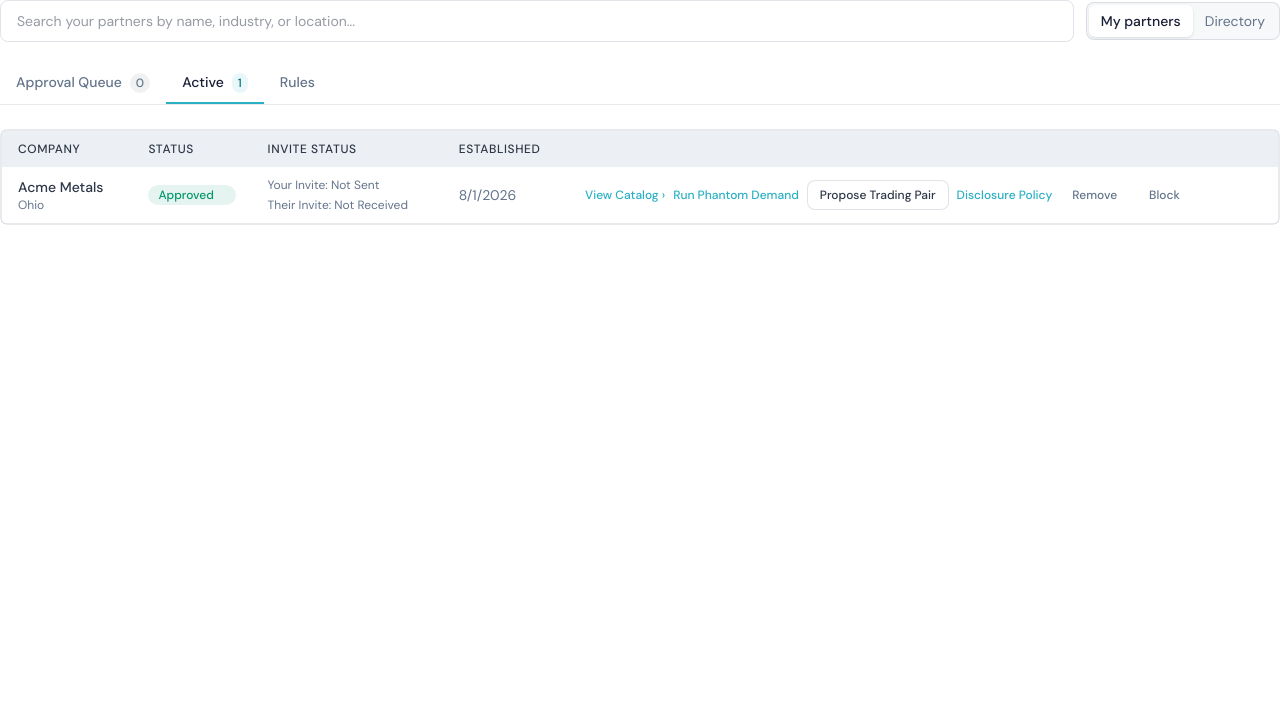
Test: PartnersPanel — propose trading pair (SEC-web-account-1-05) › a 403 leaves the invite untouched, shows no success toast, and shows the error
Expected: the text "Acme Metals" is shown, [18, 177, 116, 197]
Click the button "Propose Trading Pair".
click(878, 195)  # box [807, 180, 949, 210]
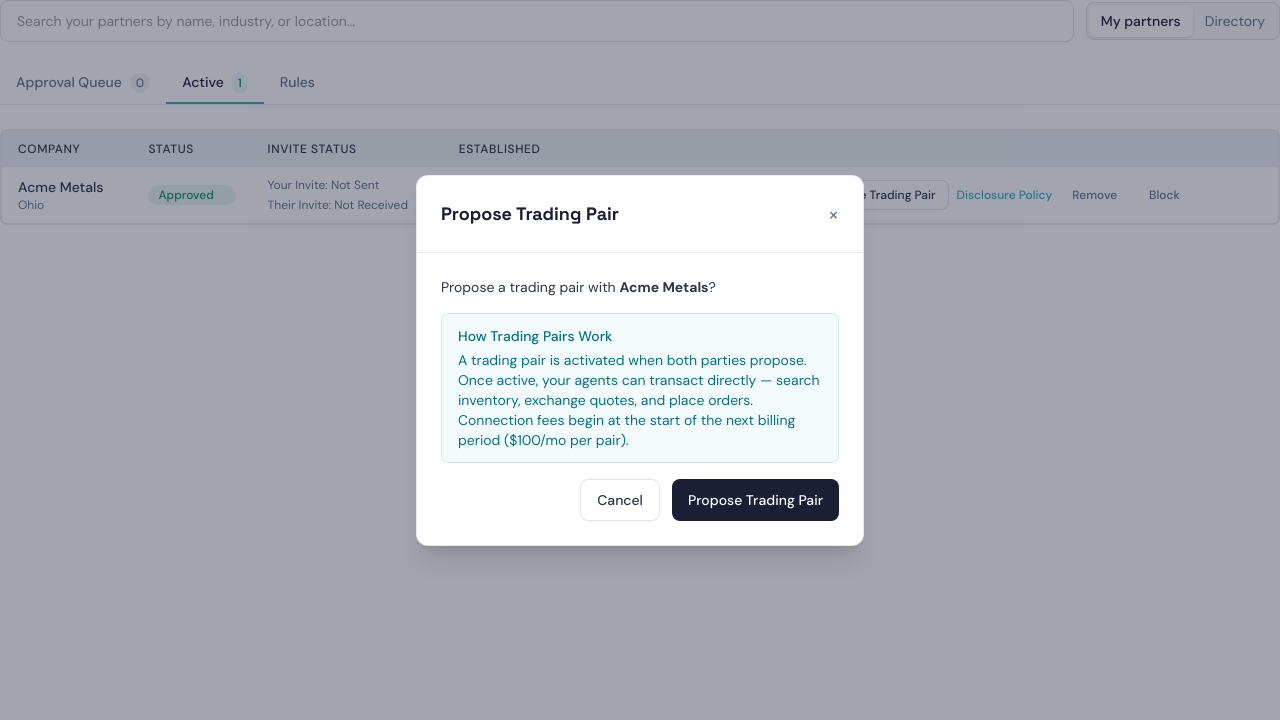
Click the button "Propose Trading Pair".
click(756, 500)  # box [672, 478, 839, 520]
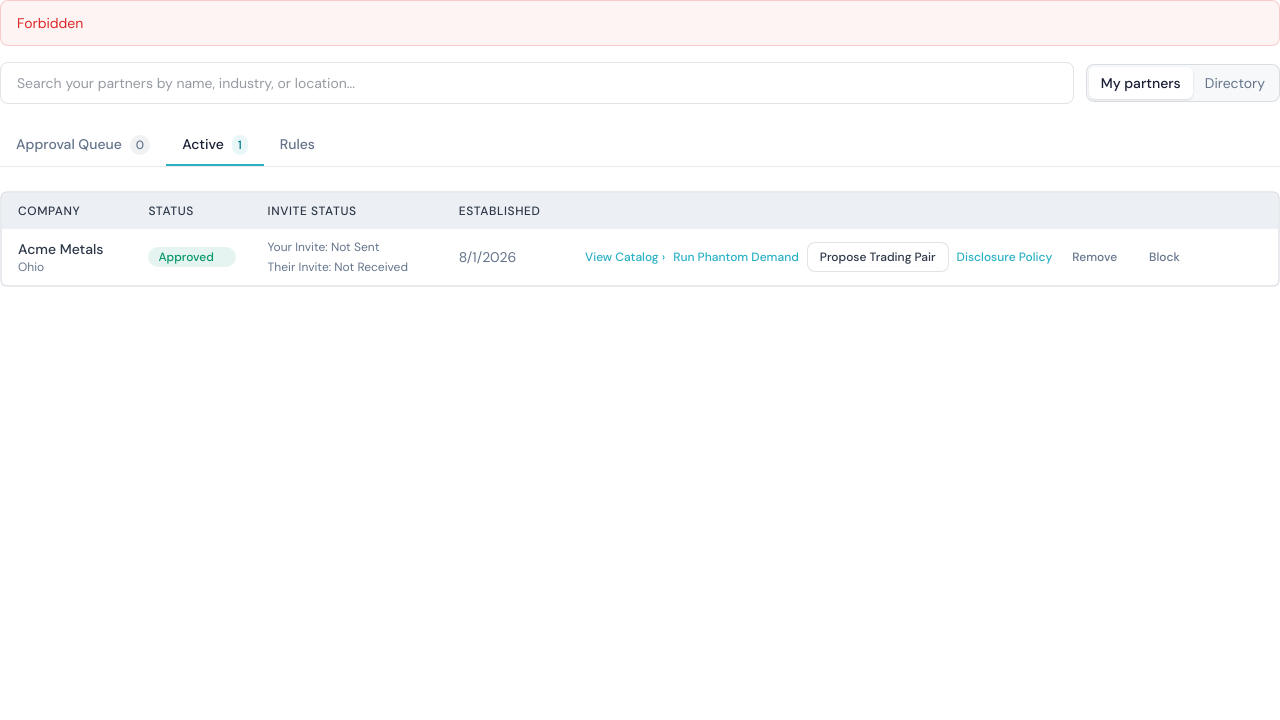
Expected: the text "Your Invite: Not Sent" is shown, [268, 239, 379, 255]
Expected: the message reads "Forbidden", [17, 14, 83, 32]
